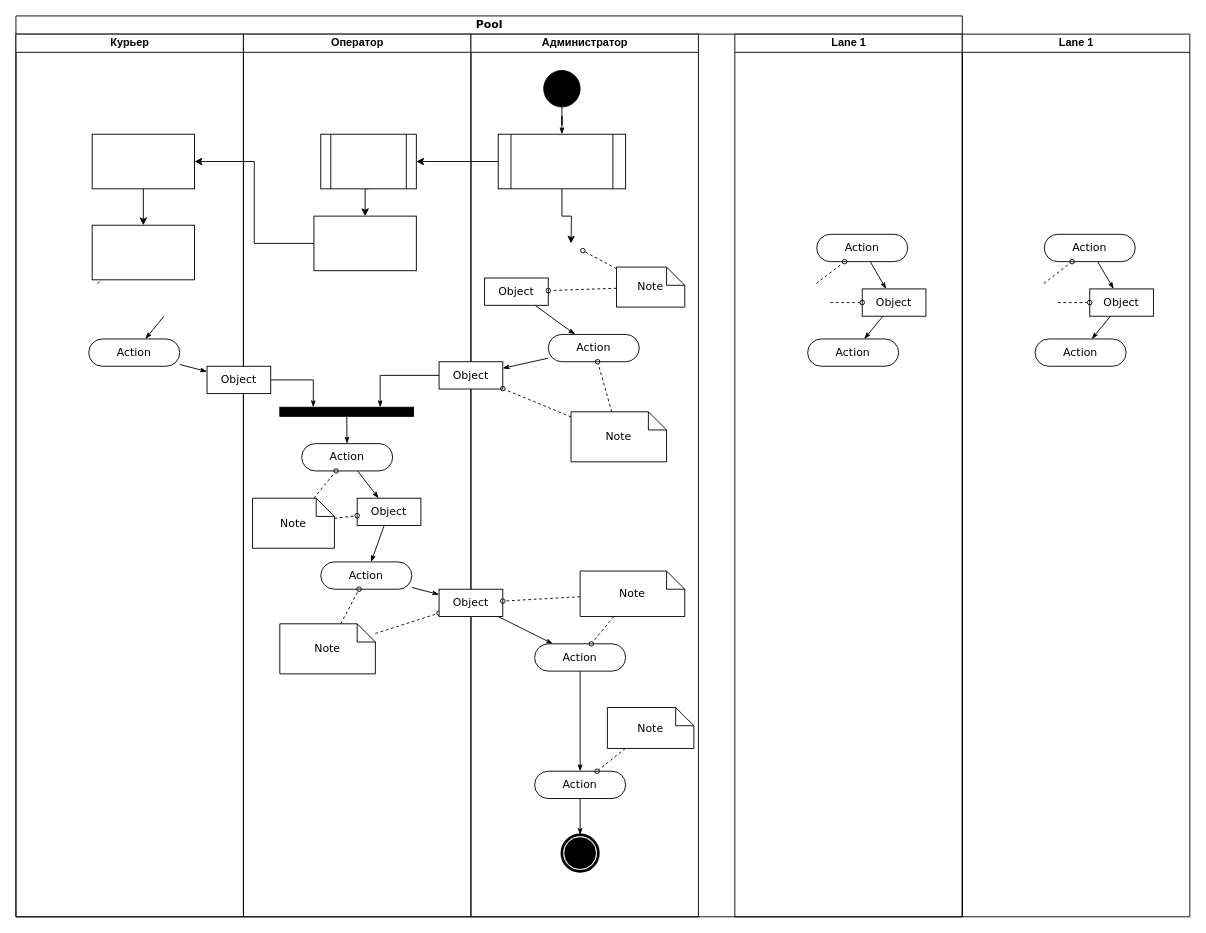
The diagram is 1206 pixels wide and 933 high, and some of its shapes have lost their labels. The shapes that lost their labels are listed below. From the top down, each one's centre as x and y in pixels, then its label:
At (143,161): "Просмотр доступных заказов".
At (368,161): "Обработка заказа".
At (561,161): "Регистрация пользователей".
At (143,252): "Бронирование заказа".
At (364,243): "Ввод заказа".
